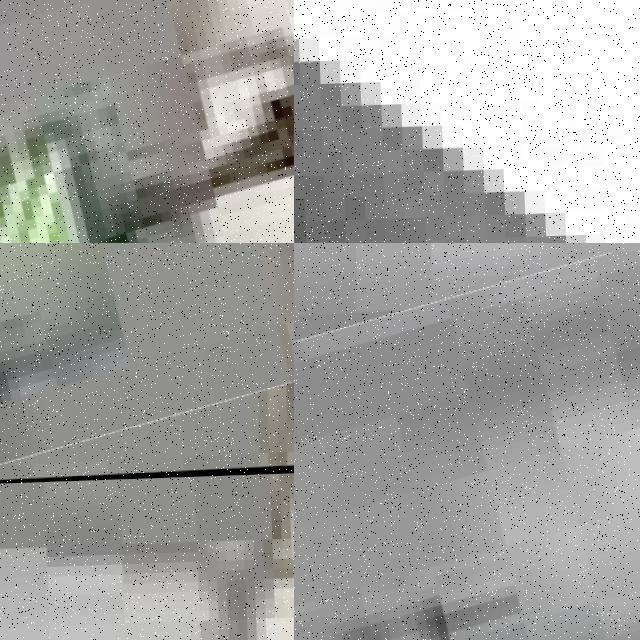drone: (294, 244, 640, 640), (0, 243, 294, 492), (0, 0, 294, 243)
